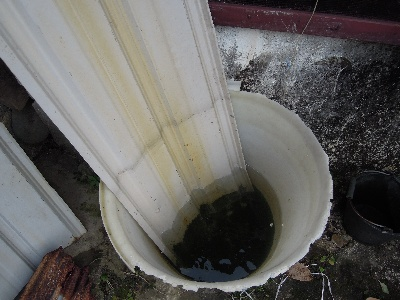bucket: (97, 87, 337, 296), (342, 168, 400, 248)
